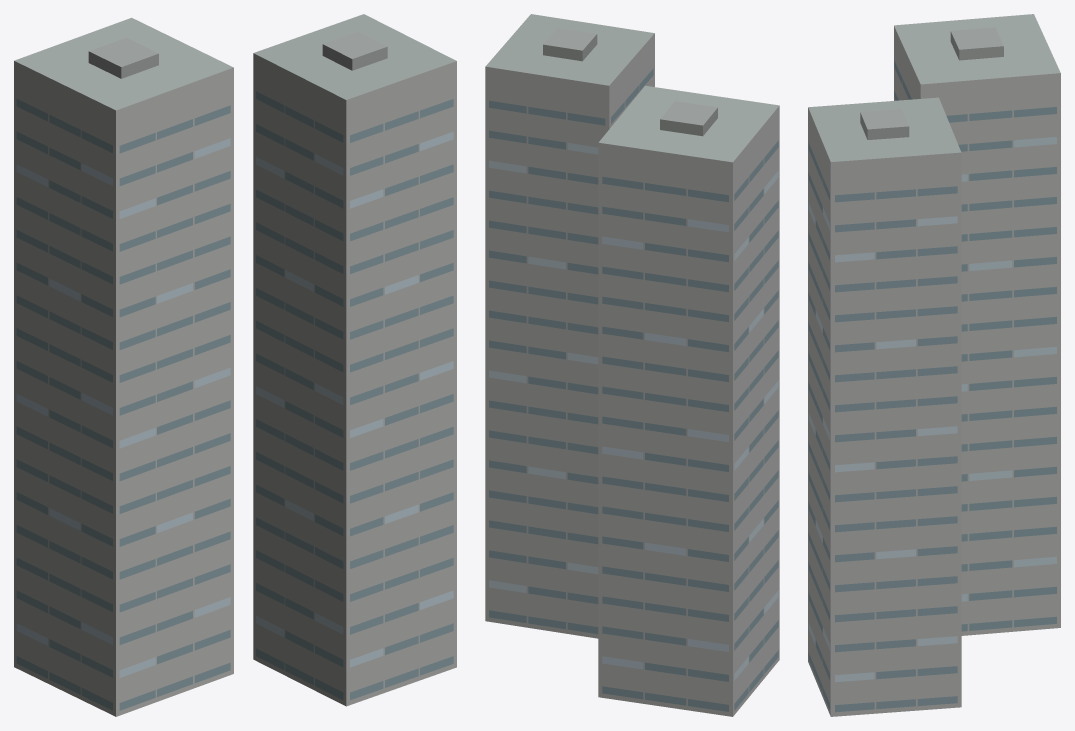
The model's file is apt-a14001101.glb.
3 renders of one model, left to right at view 1: azimuth 30°, elevation 25°; view 2: azimuth 150°, elevation 25°; view 3: azimuth 270°, elevation 25°, orthographic. The views are drawn at different scales.
Parts seen in each view (by area): view 1: apt-a14001101; view 2: apt-a14001101; view 3: apt-a14001101.
Part boxes in pixels (left/top/right/bottom): apt-a14001101: left=14, top=14, right=456, bottom=716; apt-a14001101: left=485, top=14, right=779, bottom=716; apt-a14001101: left=808, top=14, right=1060, bottom=716.
Size of the model in its own units: 71.18 by 127 by 51.31.
